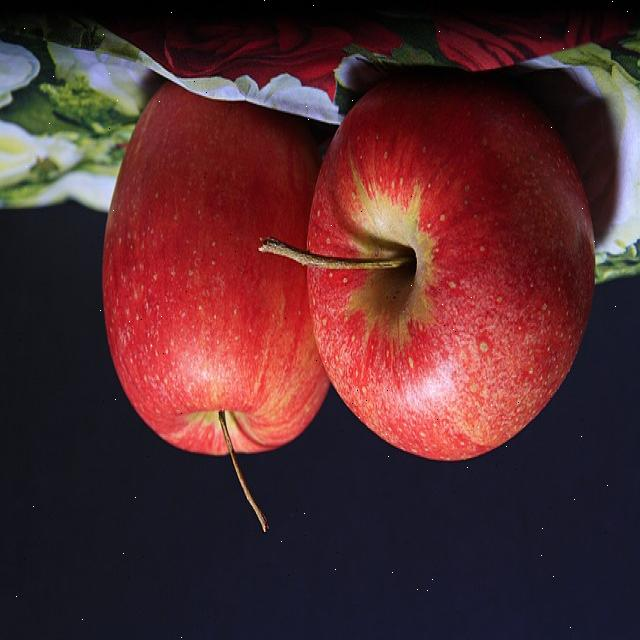Apel: (258, 74, 596, 464), (101, 81, 330, 535)
